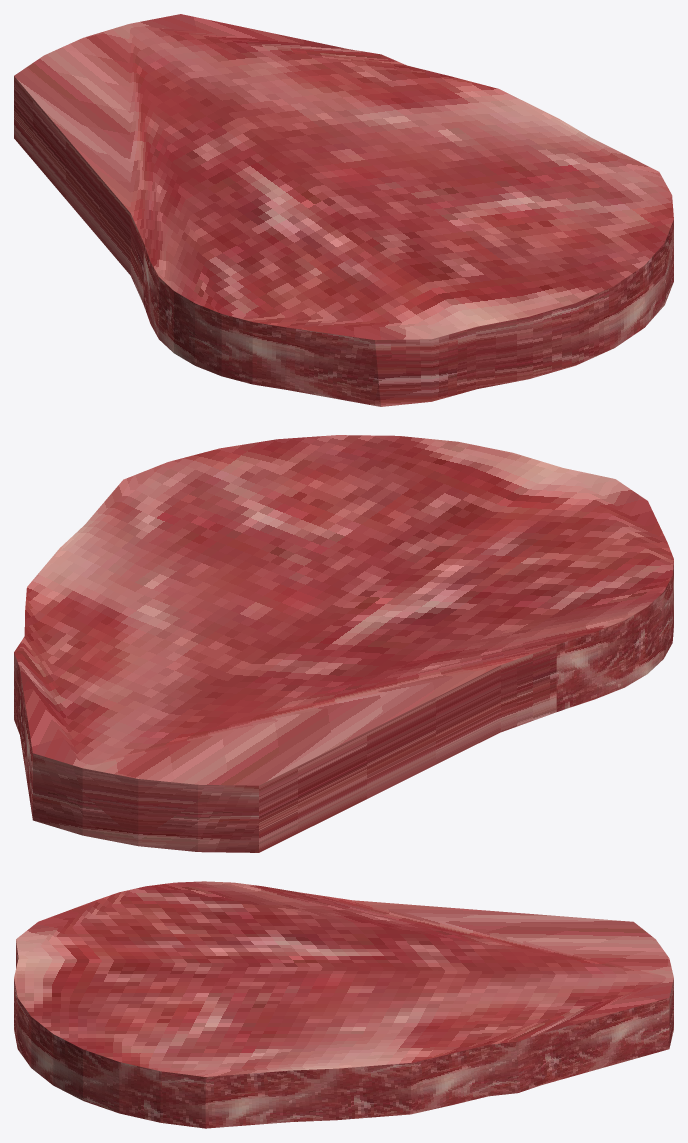
The model's file is meat.glb.
The picture shows the model from 3 angles, top to bottom: view 1: azimuth 30°, elevation 25°; view 2: azimuth 150°, elevation 25°; view 3: azimuth 270°, elevation 25°; orthographic projection. The views are drawn at different scales.
Visible parts, largest first — view 1: Cube; view 2: Cube; view 3: Cube.
Part boxes in pixels (x1=…): Cube: x1=14, y1=14, x2=673, y2=406; Cube: x1=14, y1=435, x2=673, y2=852; Cube: x1=14, y1=881, x2=673, y2=1128.
Bounding box in the file's own units: 1.94 × 0.2378 × 2.76.
Materials: 1 (1 with a texture image).
